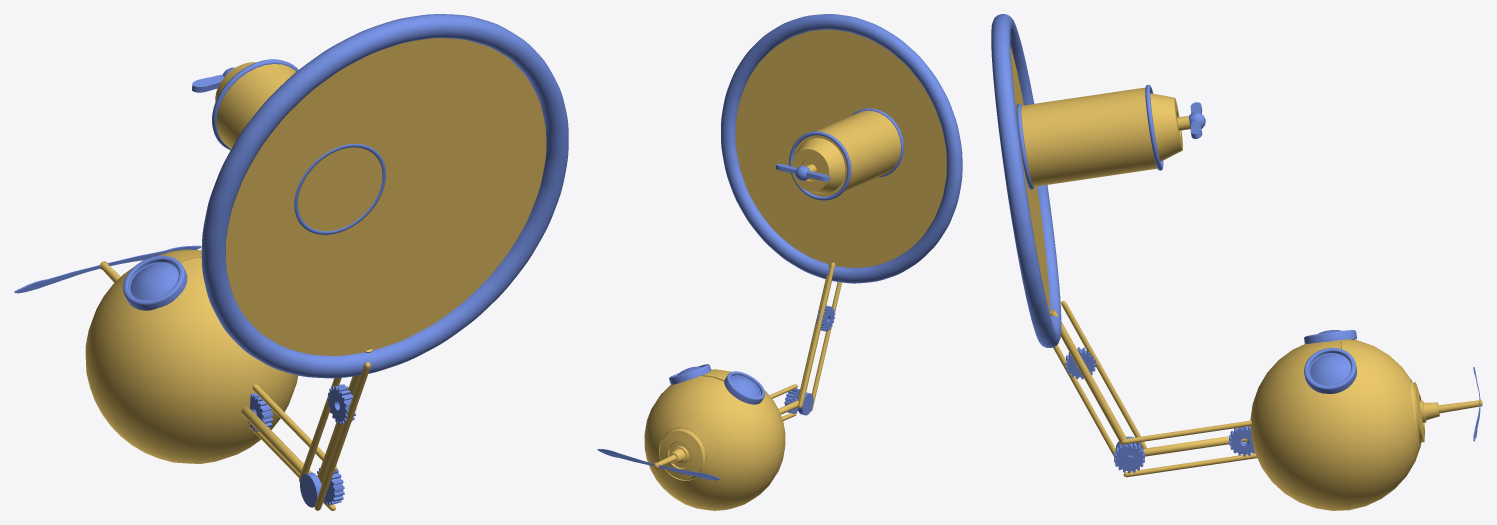
Rendered from gearhead.gltf.
3 views of the same model, side by side, from view 1: azimuth 30°, elevation 25°; view 2: azimuth 150°, elevation 25°; view 3: azimuth 270°, elevation 25° (orthographic). The views are drawn at different scales.
Visible parts, largest first — view 1: Circle.001, Sphere, Circle.002, can, Circle, can_ring, Plane.001, Plane, wings.001, Cylinder, Gear.004, Cylinder.004; view 2: Circle.001, Sphere, Circle.002, can, Circle, Plane.001, can_ring, wings.001; view 3: Sphere, can, Circle.002, Circle, Plane.001, Plane, Circle.001, Cylinder.004, can_ring, Cylinder, Gear.005, Gear.002.
Part boxes in pixels (left/top/right/bottom): Circle.001: left=226, top=38, right=546, bottom=355; Sphere: left=85, top=249, right=297, bottom=463; Circle.002: left=201, top=14, right=568, bottom=378; can: left=215, top=62, right=295, bottom=149; Circle: left=123, top=255, right=187, bottom=310; can_ring: left=212, top=59, right=385, bottom=234; Plane.001: left=299, top=362, right=370, bottom=510; Plane: left=249, top=384, right=337, bottom=510; wings.001: left=14, top=245, right=200, bottom=293; Cylinder: left=241, top=406, right=311, bottom=473; Gear.004: left=327, top=384, right=356, bottom=424; Cylinder.004: left=317, top=349, right=372, bottom=484; Circle.001: left=735, top=29, right=946, bottom=267; Sphere: left=644, top=369, right=785, bottom=510; Circle.002: left=721, top=14, right=962, bottom=283; can: left=791, top=110, right=900, bottom=196; Circle: left=669, top=364, right=765, bottom=404; Plane.001: left=798, top=262, right=841, bottom=411; can_ring: left=789, top=108, right=903, bottom=200; wings.001: left=597, top=449, right=720, bottom=480; Sphere: left=1250, top=339, right=1482, bottom=510; can: left=1021, top=87, right=1190, bottom=186; Circle.002: left=991, top=14, right=1061, bottom=347; Circle: left=1304, top=330, right=1356, bottom=393; Plane.001: left=1053, top=300, right=1146, bottom=456; Plane: left=1121, top=420, right=1256, bottom=477; Circle.001: left=1010, top=47, right=1049, bottom=313; Cylinder.004: left=1050, top=309, right=1126, bottom=445; can_ring: left=1016, top=85, right=1163, bottom=189; Cylinder: left=1143, top=436, right=1248, bottom=456; Gear.005: left=1114, top=443, right=1144, bottom=473; Gear.002: left=1229, top=426, right=1254, bottom=456.
Size of the model in its own units: 5.5 by 8.5 by 8.01.
